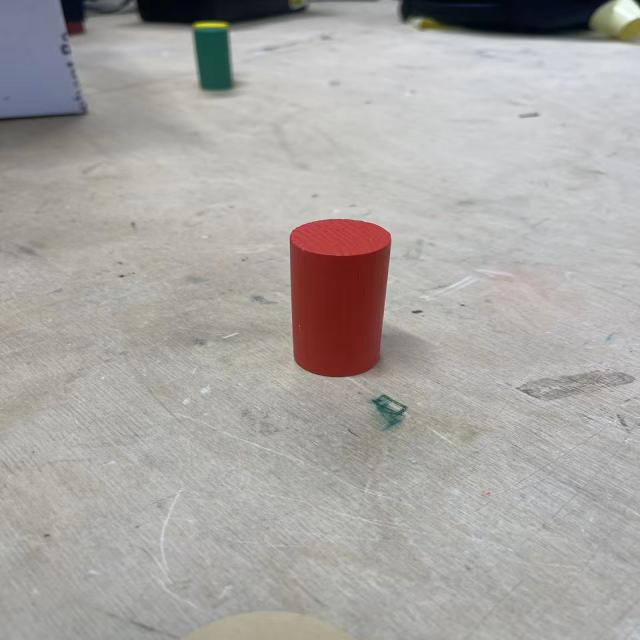red_cylinder: (290, 218, 392, 378)
